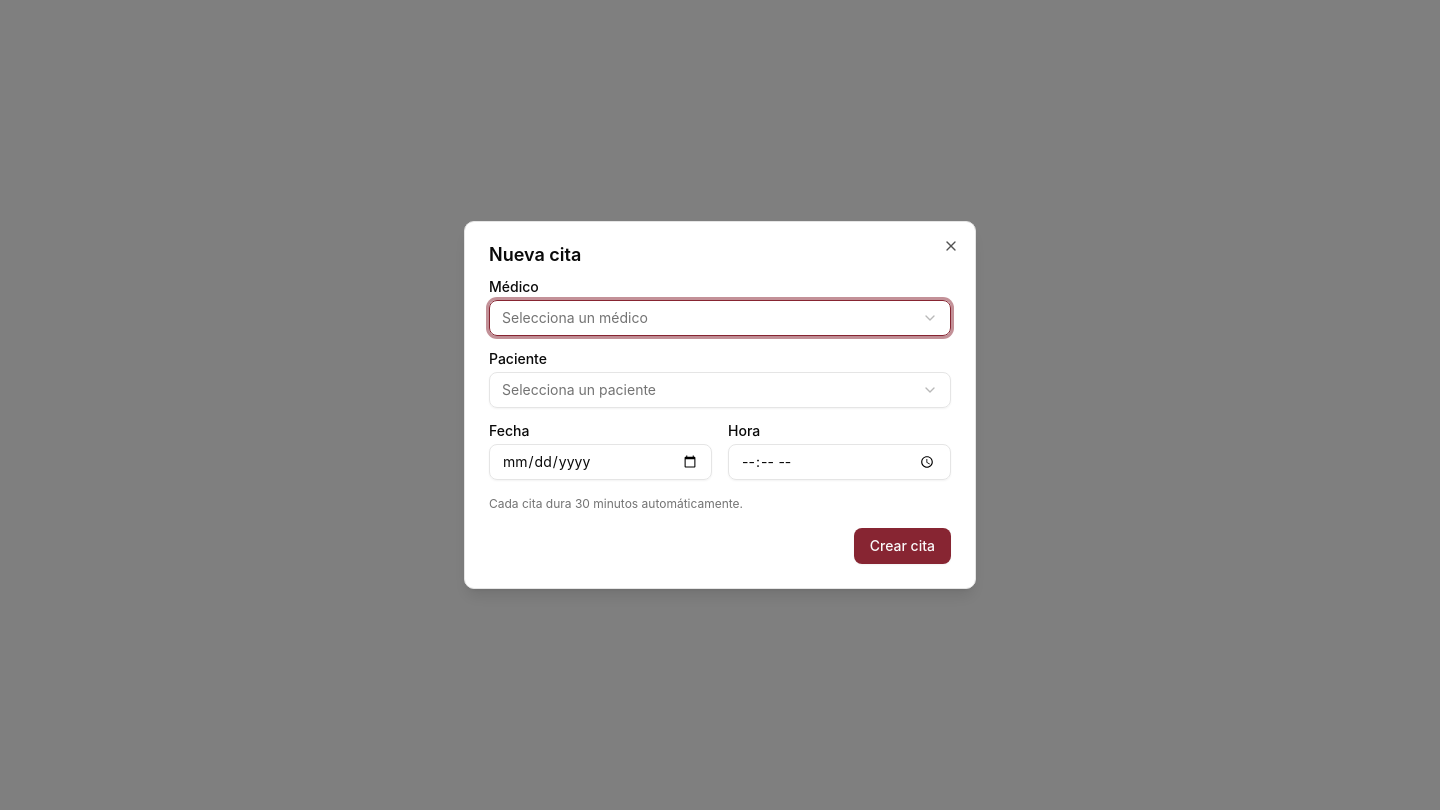
Test: CitaFormDialog › muestra errores de validación si se envía vacío
Click the button "Crear cita": x=902, y=546 [854, 528, 951, 564]
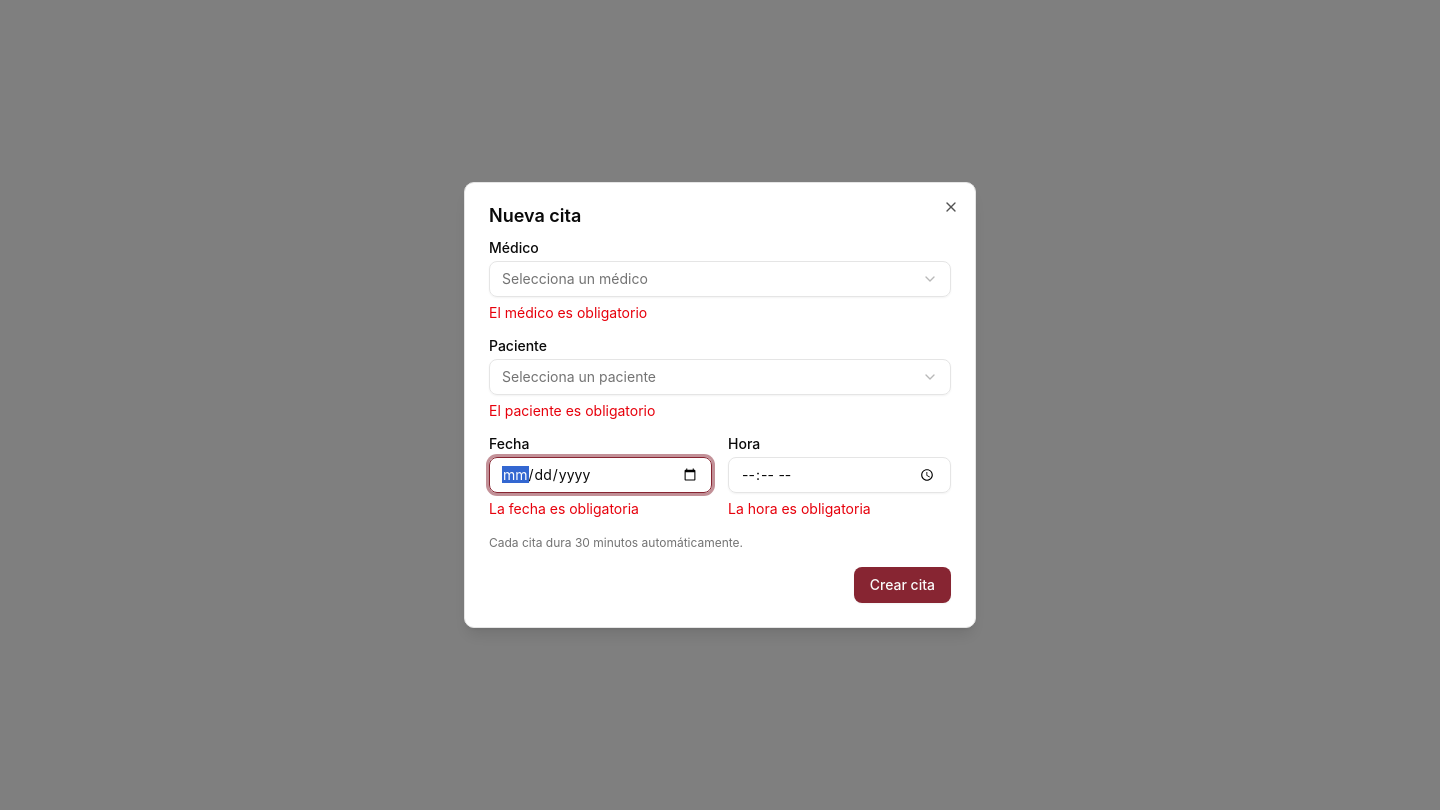
Expected: the text "El médico es obligatorio" is shown, [489, 304, 647, 321]
Expected: the text "El paciente es obligatorio" is shown, [489, 402, 655, 419]
Expected: the text "La fecha es obligatoria" is shown, [489, 500, 639, 517]
